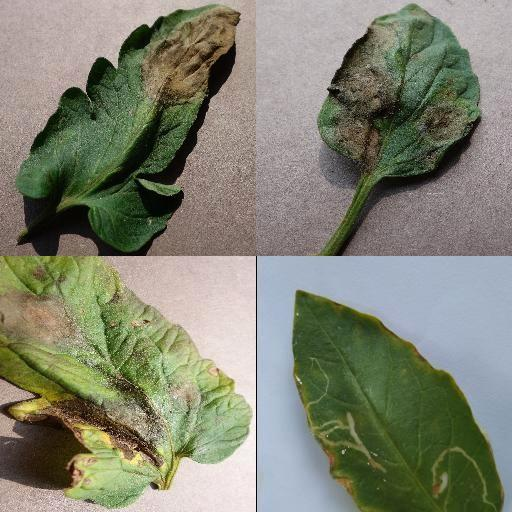Late Blight: (0, 256, 254, 510), (16, 2, 242, 256), (316, 2, 484, 178)
Leaf Miner: (293, 289, 505, 512)
